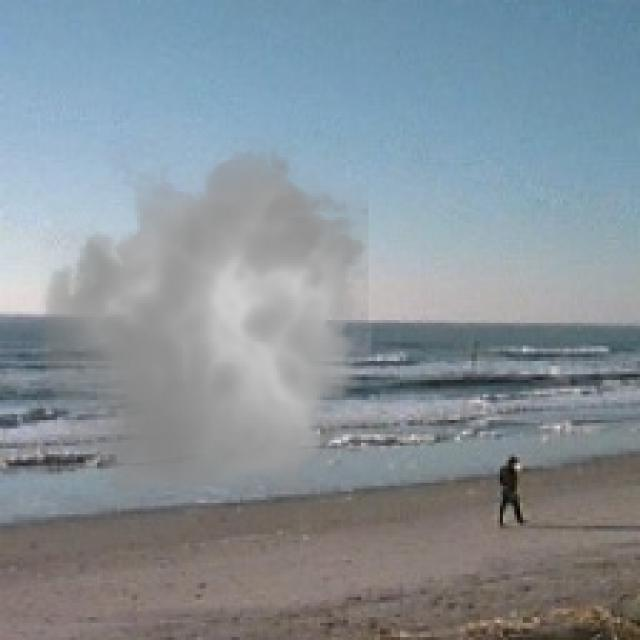Smoke: (28, 137, 386, 514)
